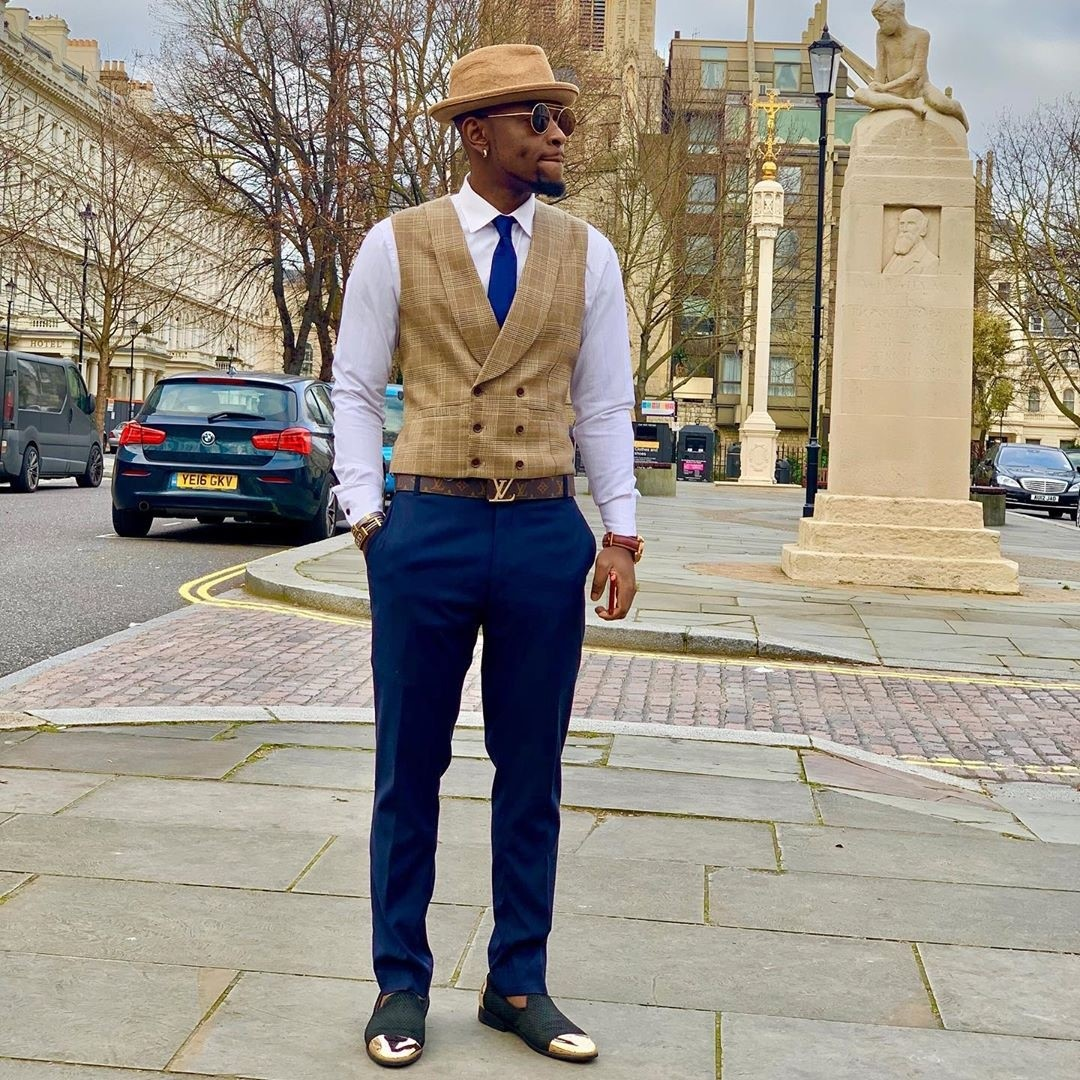face_no_mask: (440, 52, 580, 204)
